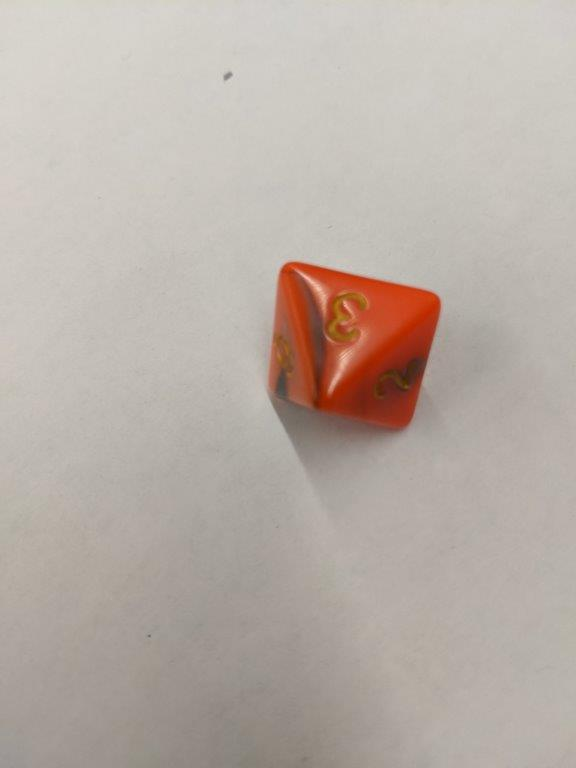d8-3: (267, 262, 444, 432)
